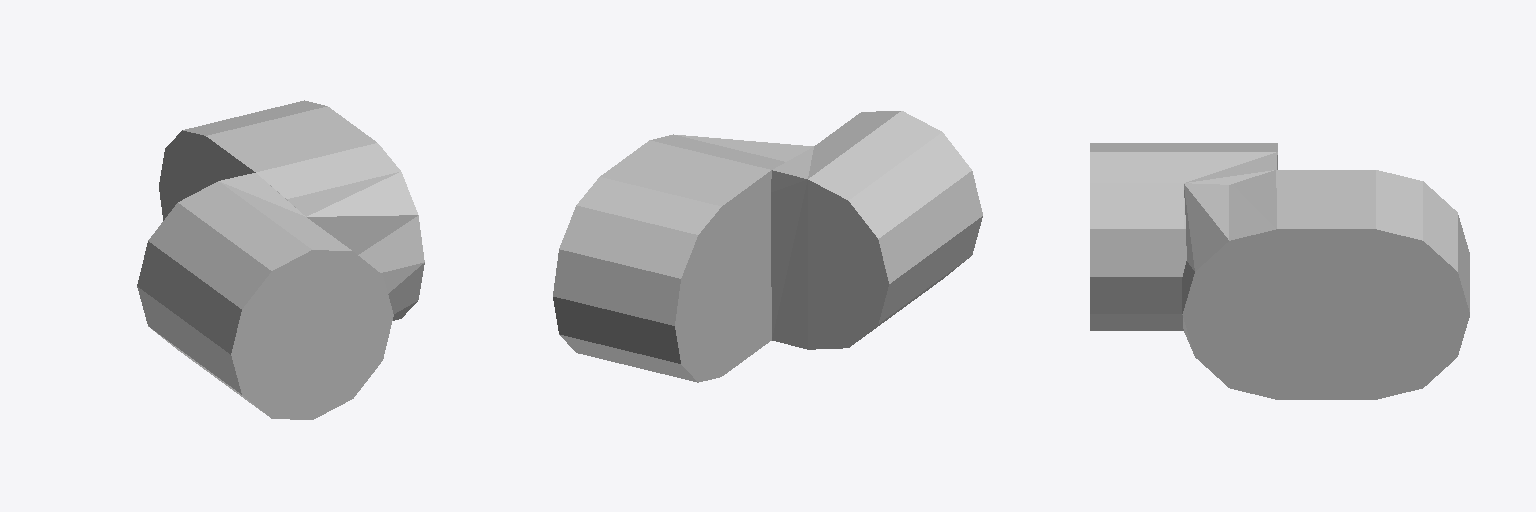
Rendered from arm_link6.obj.
3 renders of one model, left to right at view 1: azimuth 30°, elevation 25°; view 2: azimuth 150°, elevation 25°; view 3: azimuth 270°, elevation 25°, orthographic.
Parts seen in each view (by area): view 1: arm_link6_Cylinder.081; view 2: arm_link6_Cylinder.081; view 3: arm_link6_Cylinder.081.
Boxes of the visible parts, x1,y1,x2,y2 form: arm_link6_Cylinder.081: [137, 100, 424, 419]; arm_link6_Cylinder.081: [553, 111, 982, 382]; arm_link6_Cylinder.081: [1090, 143, 1469, 399].
Bounding box in the file's own units: 0.059 × 0.04 × 0.081.